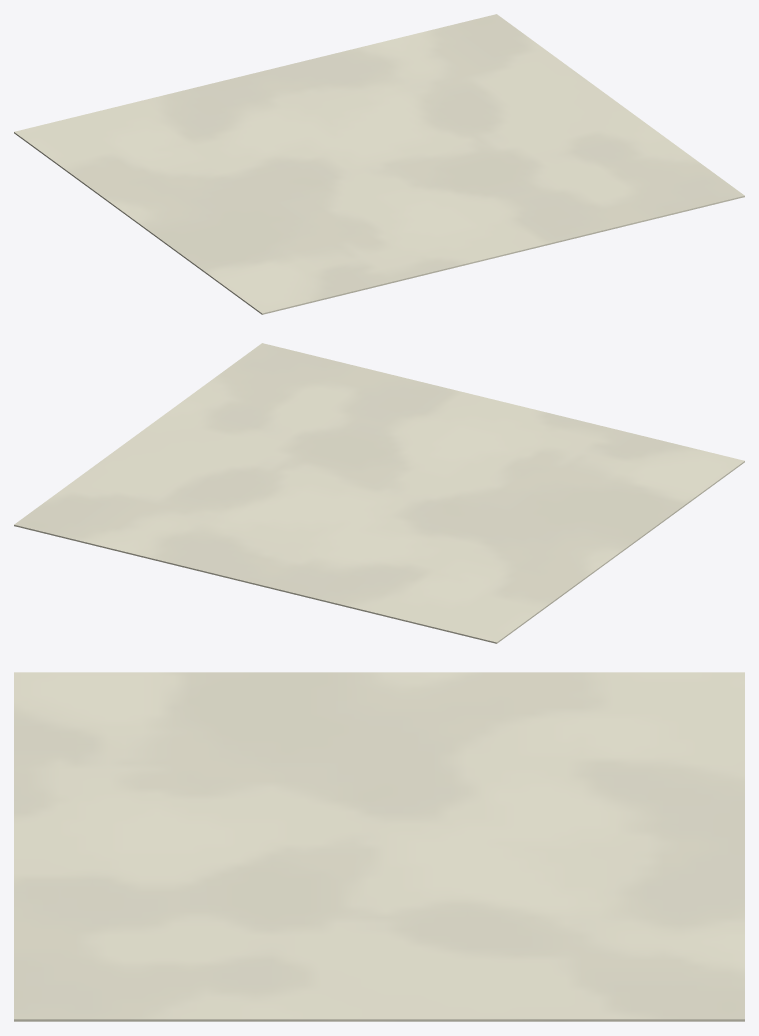
Rendered from Parchment_Paper.FBX.
3 renders of one model, top to bottom at view 1: azimuth 30°, elevation 25°; view 2: azimuth 150°, elevation 25°; view 3: azimuth 270°, elevation 25°, orthographic. The views are drawn at different scales.
Parts seen in each view (by area): view 1: Parchment_Paper; view 2: Parchment_Paper; view 3: Parchment_Paper.
Boxes of the visible parts, x1,y1,x2,y2 form: Parchment_Paper: (14, 14, 744, 314); Parchment_Paper: (14, 343, 744, 643); Parchment_Paper: (14, 672, 744, 1021).
Size of the model in its own units: 115 by 0.3244 by 102.
